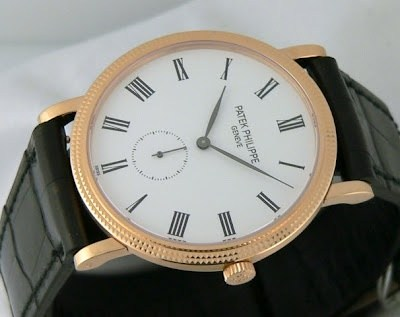clock: (87, 40, 320, 245)
